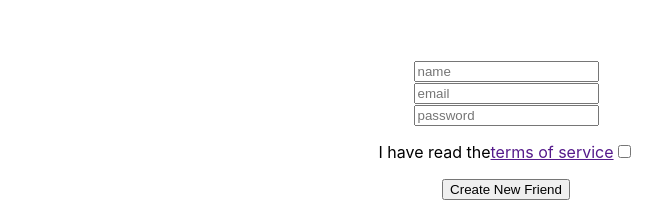
Test case: Testing Create New User Form › Ensure all expected input fields exist and operate correctly › all input fields must pass a specified schema before the submit button works › if email is blank error message appears
The image size is (648, 218).
Type "Dawson" into the field named "name" at (507, 73), box x1=414 y1=62 x2=599 y2=83
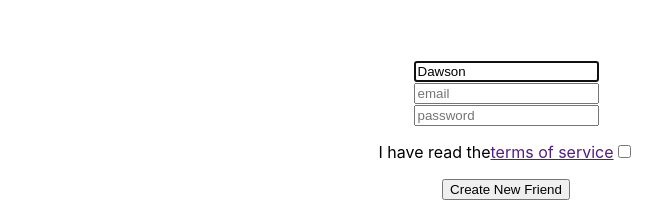
Type "123456" into the password field named "password" at (507, 117), box x1=414 y1=106 x2=599 y2=127
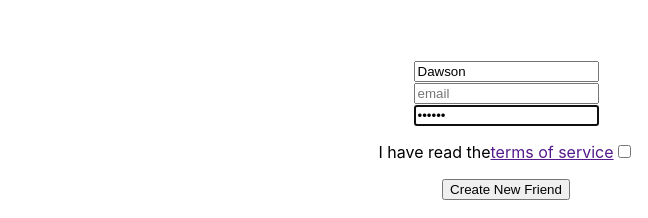
Click the checkbox named "tos" at (625, 153), box x1=618 y1=146 x2=631 y2=159
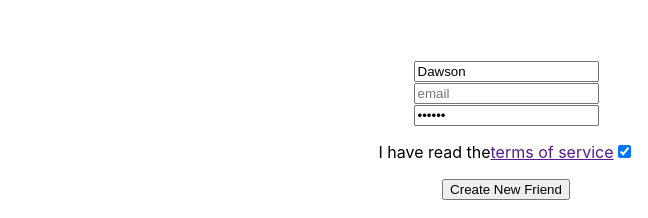
Click the button named "submitBtn" at (506, 191), box x1=442 y1=180 x2=570 y2=201
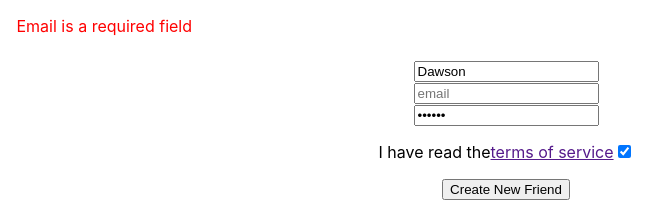
Expected: the text "Email is a required field" is shown, x1=16 y1=16 x2=192 y2=36
